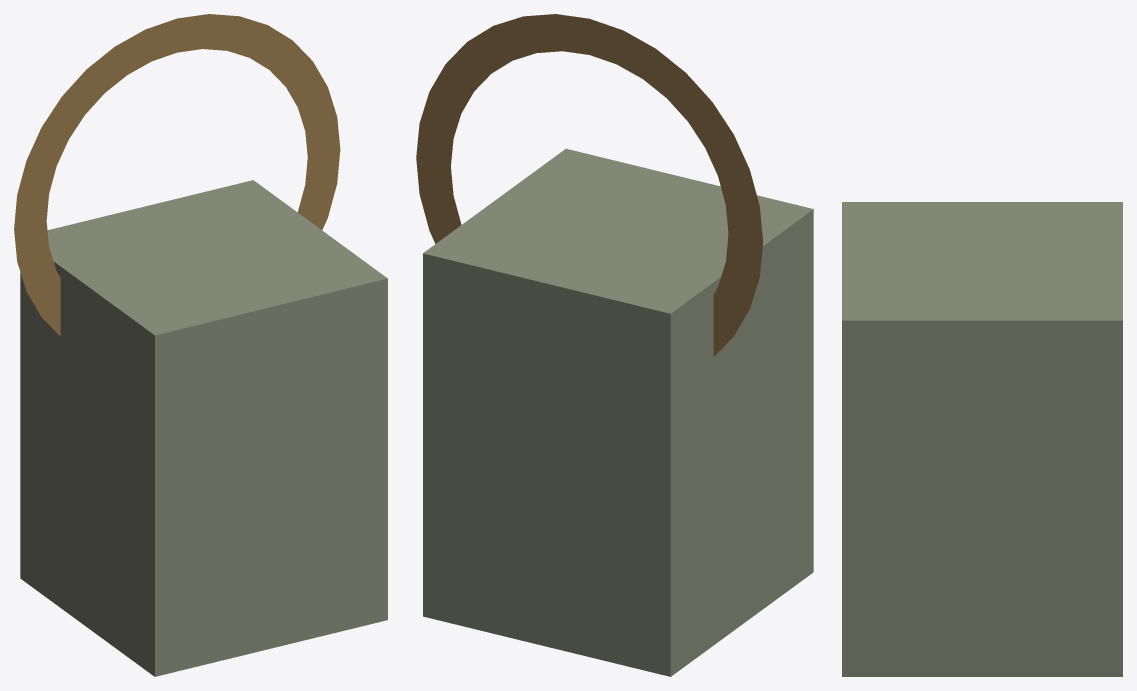
Rendered from sluice_valve.glb.
3 views of the same model, side by side, from view 1: azimuth 30°, elevation 25°; view 2: azimuth 150°, elevation 25°; view 3: azimuth 270°, elevation 25° (orthographic). The views are drawn at different scales.
Visible parts, largest first — view 1: housing, wheel; view 2: housing, wheel; view 3: housing.
Boxes of the visible parts, box(x1,y1,x2,y2) form: housing: box(20, 180, 387, 676); wheel: box(14, 14, 340, 336); housing: box(423, 148, 813, 676); wheel: box(416, 14, 763, 356); housing: box(842, 202, 1122, 676).
Size of the model in its own units: 0.7 by 1.15 by 0.5.
